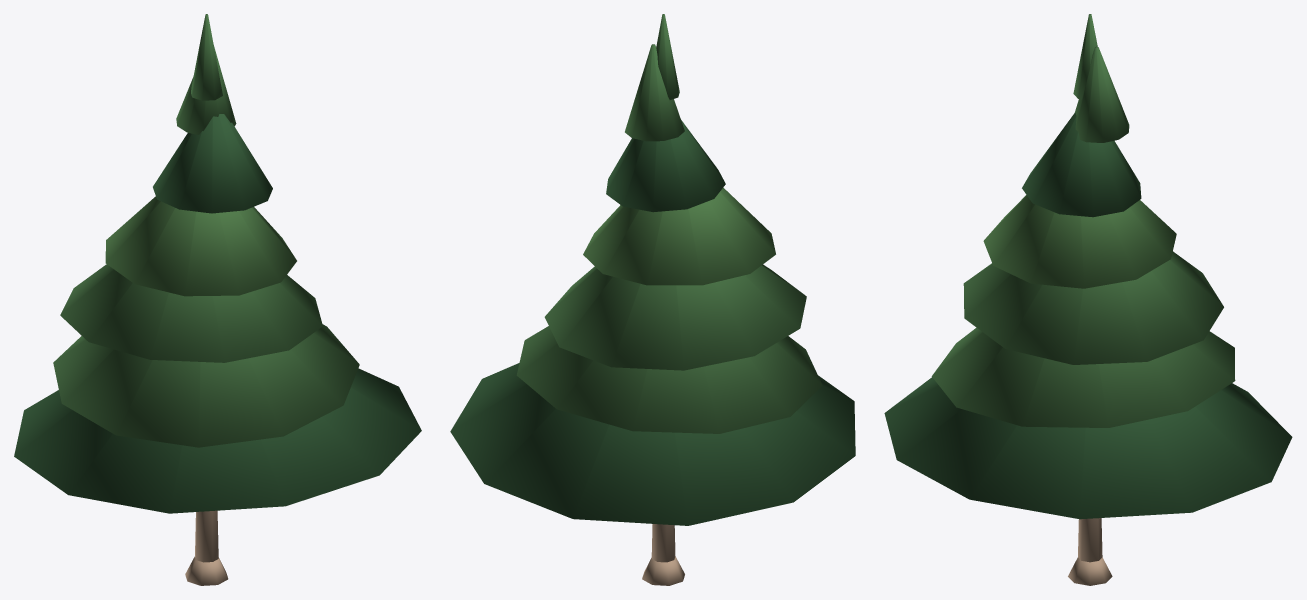
Rendered from pine.glb.
3 renders of one model, left to right at view 1: azimuth 30°, elevation 25°; view 2: azimuth 150°, elevation 25°; view 3: azimuth 270°, elevation 25°, orthographic.
Parts seen in each view (by area): view 1: pine; view 2: pine; view 3: pine.
Part boxes in pixels (x1,y1,x2,y2): pine: (14,14,421,585); pine: (450,14,855,585); pine: (884,14,1292,585).
Size of the model in its own units: 6.03 by 9.2 by 6.05.
